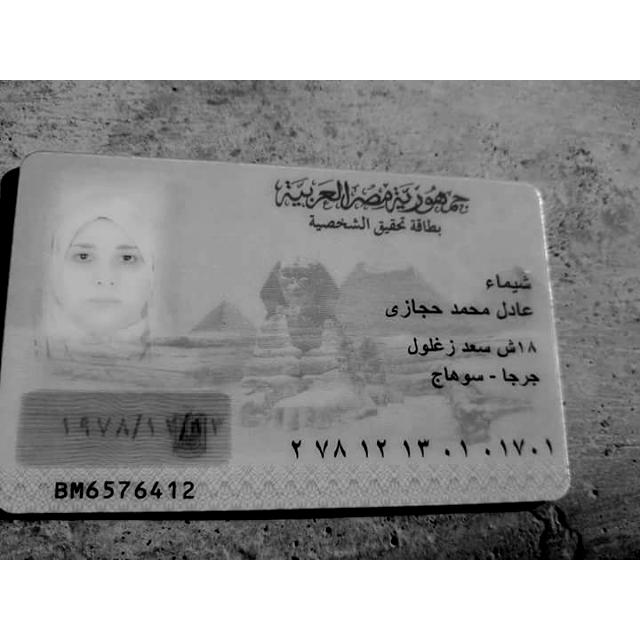id_card: (28, 156, 576, 512)
